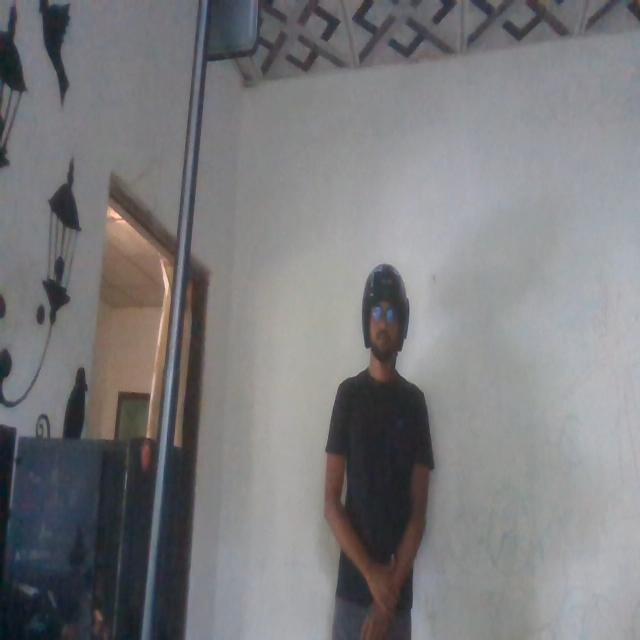Helmet_Wearer: (355, 258, 412, 380)
Person: (320, 246, 438, 640)
